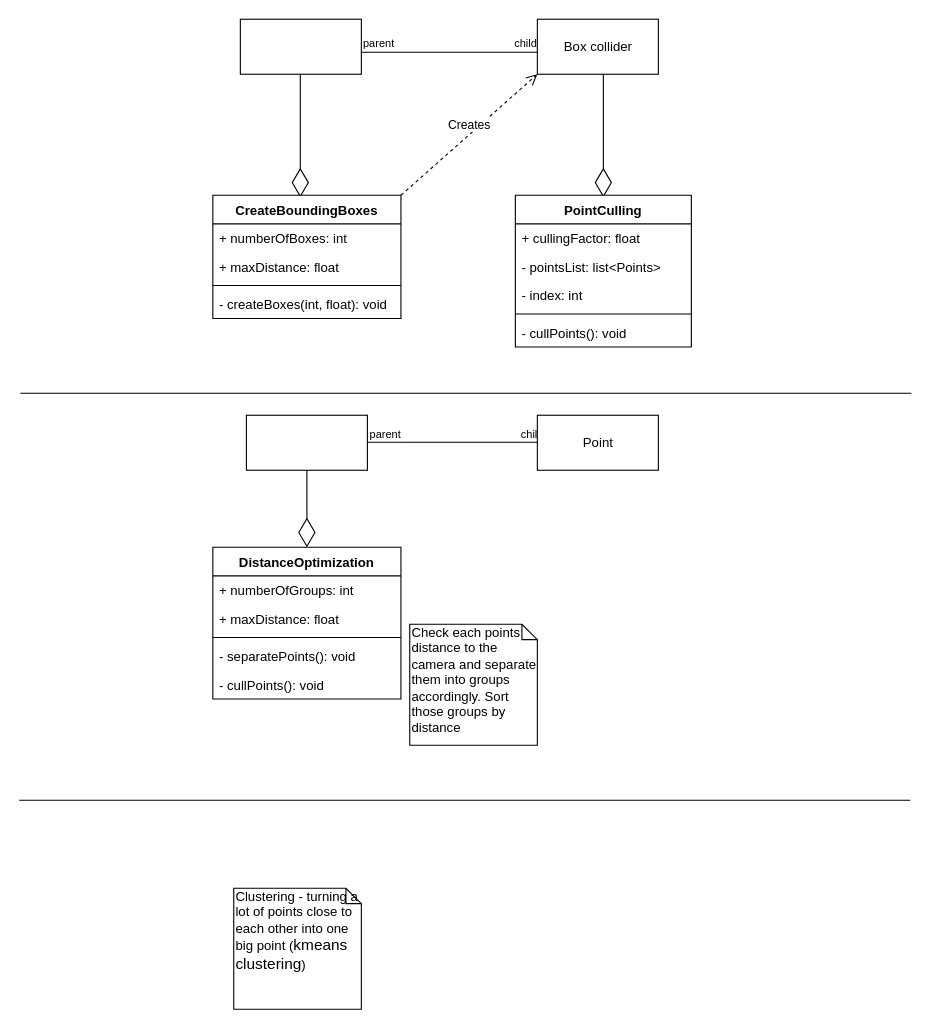
Some shapes in this 932 by 1029 pixel diagram are drawn without their labels. Here are the shapes that lost their labels. From the top down, the centre of each, then its label:
At (x=300, y=46): "Camera".
At (x=306, y=442): "Points Parent".
